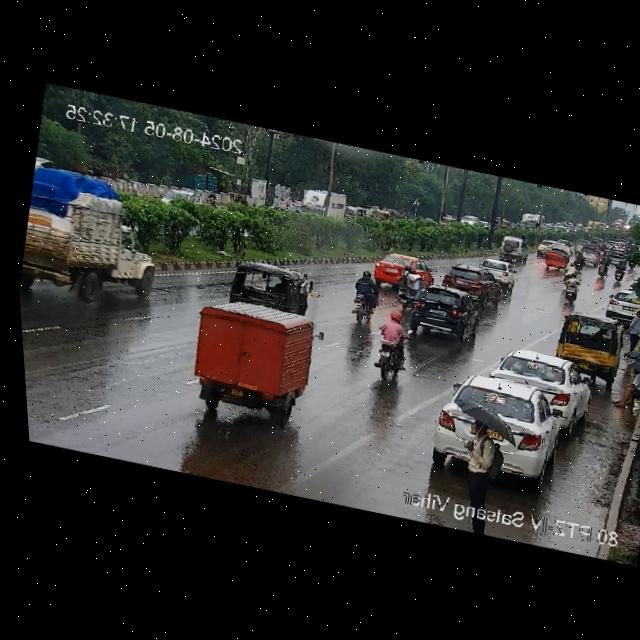car: (179, 293, 324, 422), (424, 375, 559, 480), (485, 347, 589, 431), (549, 309, 633, 384), (404, 283, 483, 348), (225, 260, 312, 317), (440, 261, 506, 305), (372, 250, 432, 295), (599, 288, 640, 328), (157, 184, 206, 215), (492, 234, 530, 265), (477, 260, 517, 287), (542, 245, 572, 273), (368, 206, 393, 227), (340, 205, 367, 224)
motorcycle: (365, 309, 415, 383), (345, 270, 382, 322), (559, 271, 583, 302), (594, 256, 611, 278), (613, 260, 627, 282), (202, 192, 219, 209)
person: (455, 420, 511, 536), (613, 361, 640, 411), (621, 308, 640, 358)
truck: (13, 177, 170, 314)
